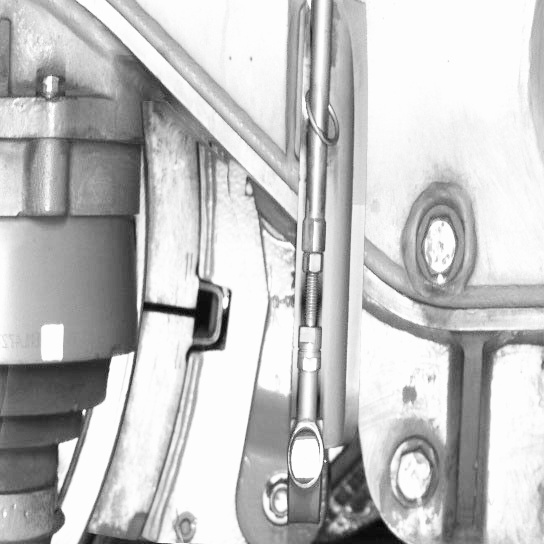ClosedKnifeSwitch: (72, 138, 197, 543)
